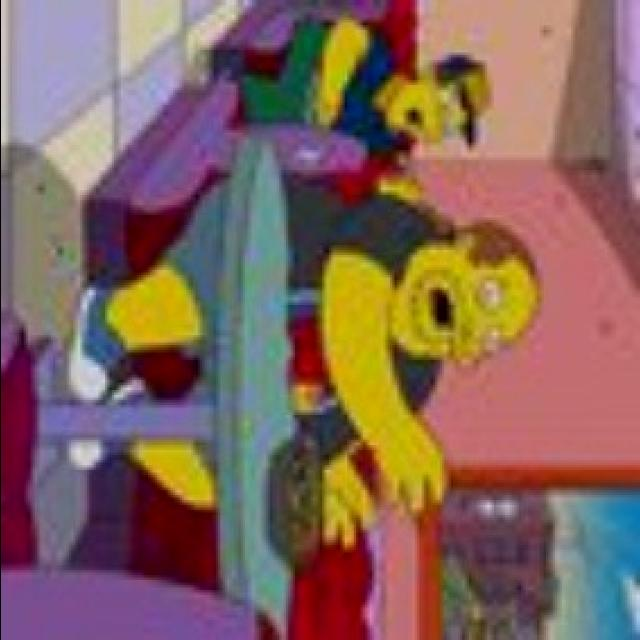Comic Book Guy: (386, 215, 540, 380)
